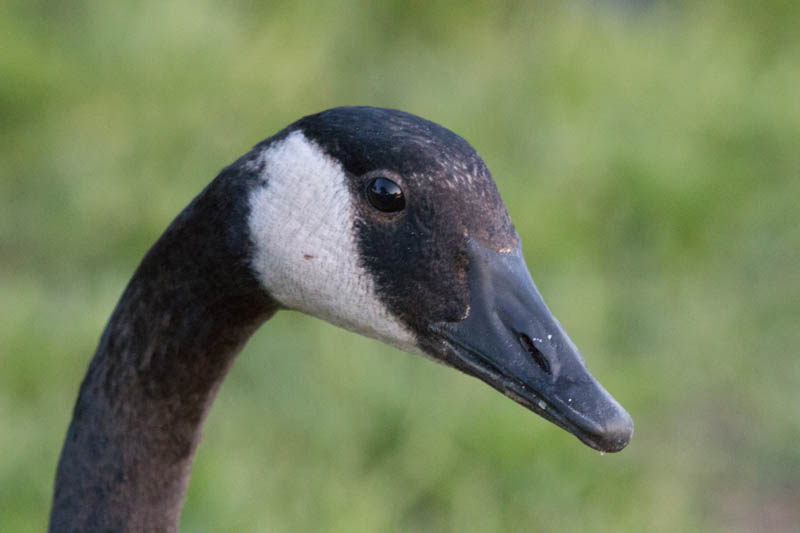goose-head: (224, 106, 634, 455)
